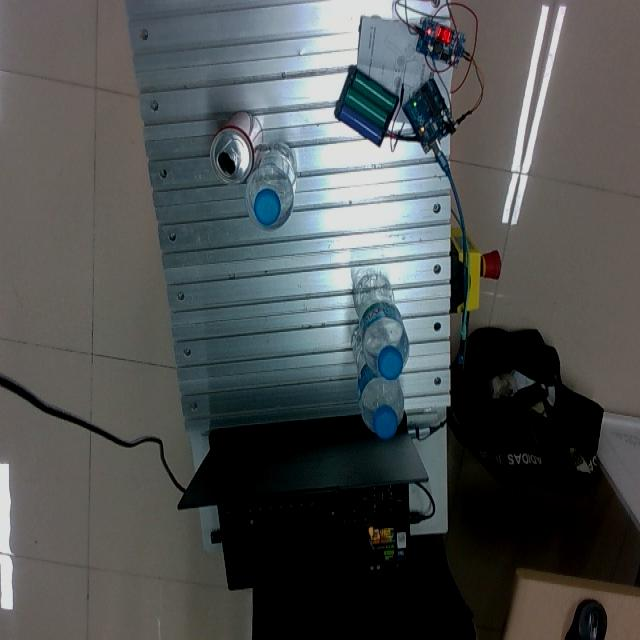coca: (210, 112, 262, 184)
lavie: (353, 324, 405, 439), (354, 272, 407, 376), (245, 143, 299, 232)
